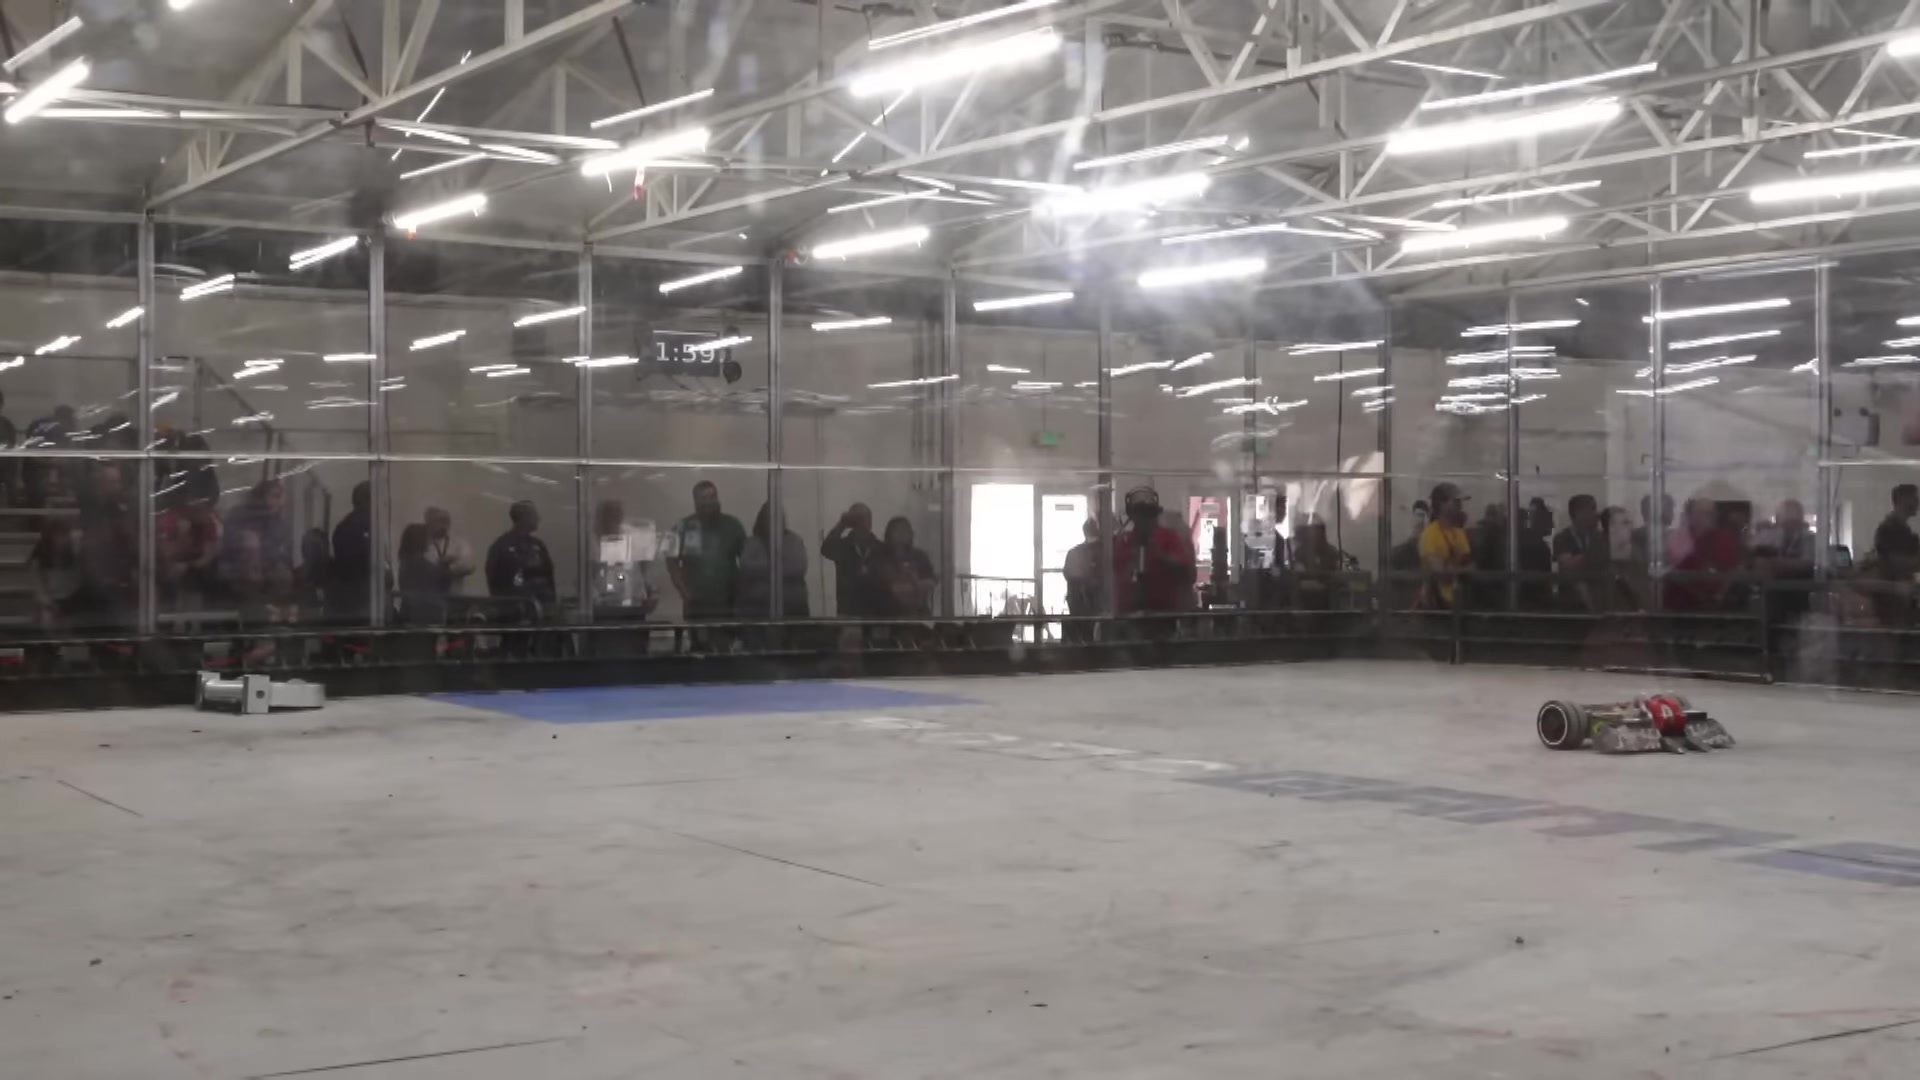combatbot: (1539, 694, 1742, 764), (193, 669, 331, 717)
